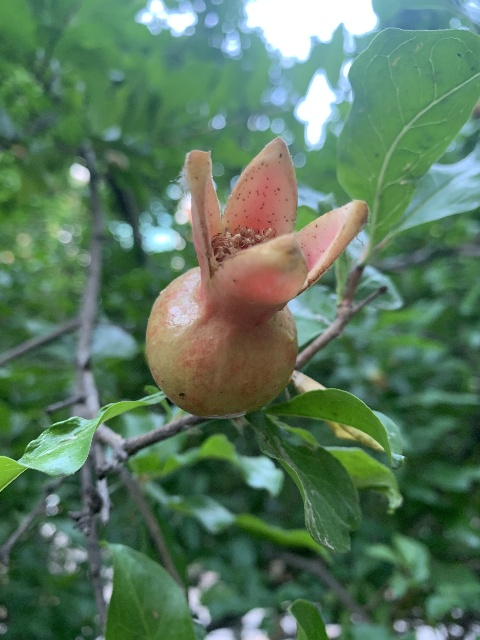early-fruit: (145, 134, 371, 419)
